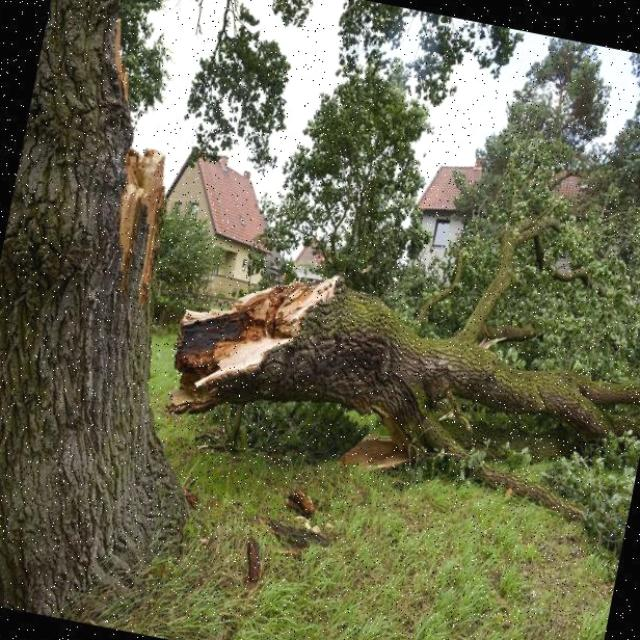fallen_object: (130, 157, 640, 526)
